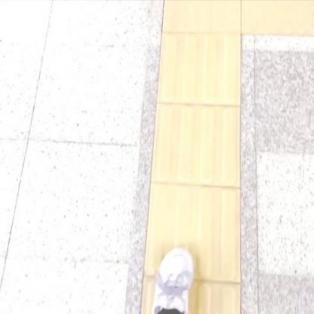Podoctatil: (140, 35, 244, 314)
